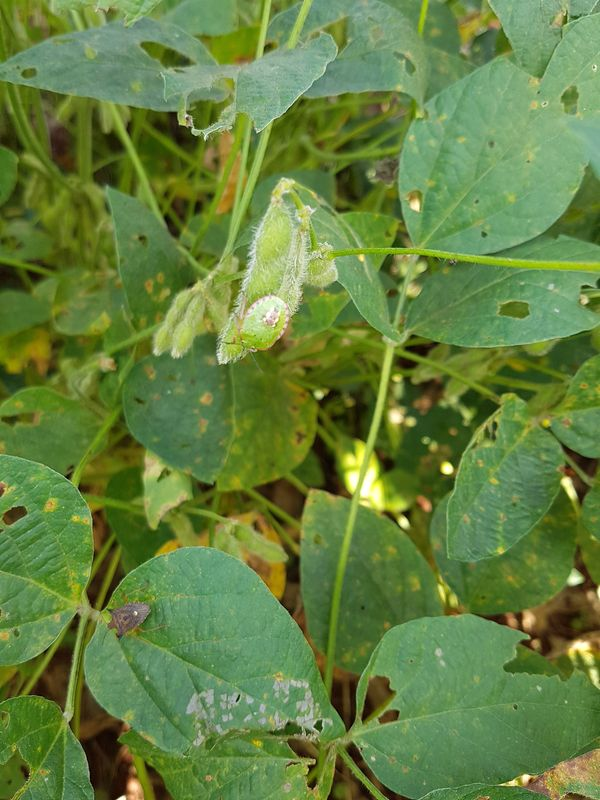Euschistus_heros_adulto: (99, 594, 159, 647)
Nezara_viridula_ninfa: (221, 285, 294, 364)
